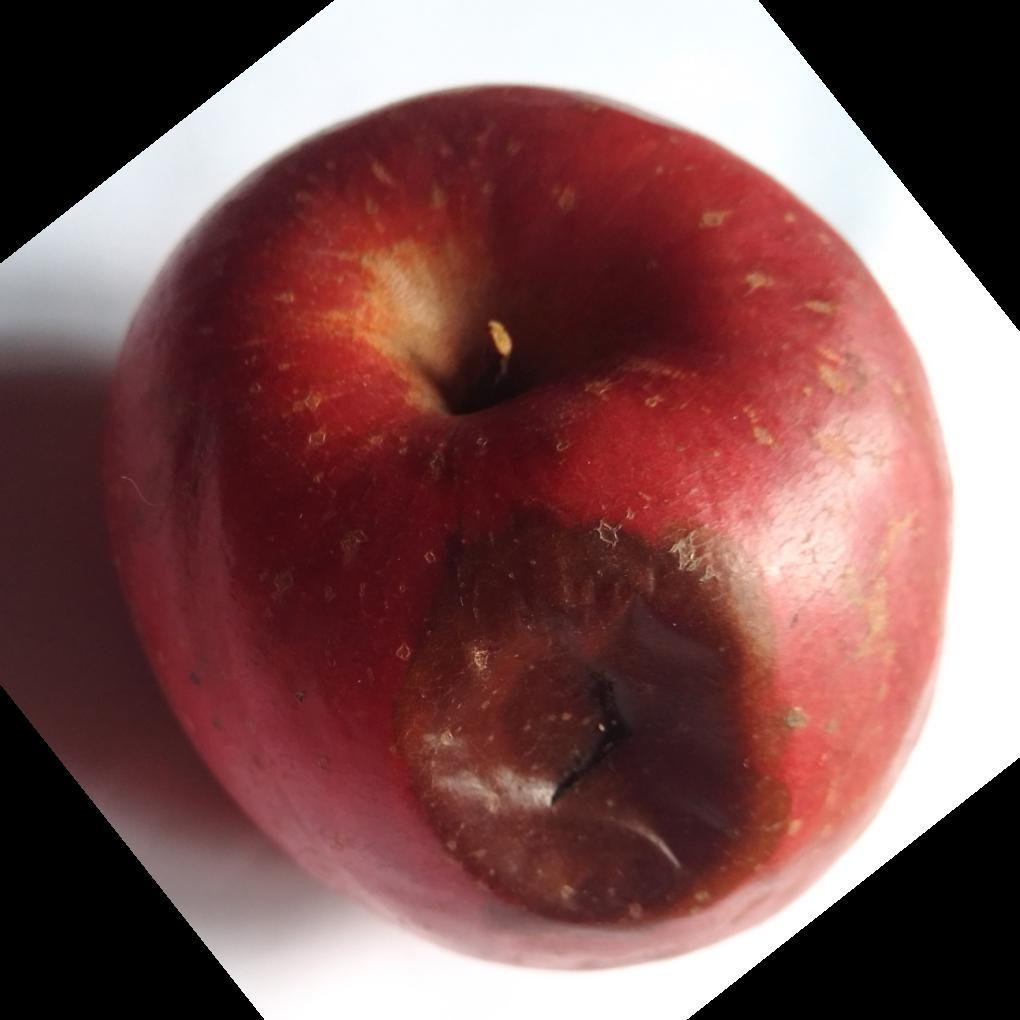FreshOrange: (96, 84, 959, 979)
